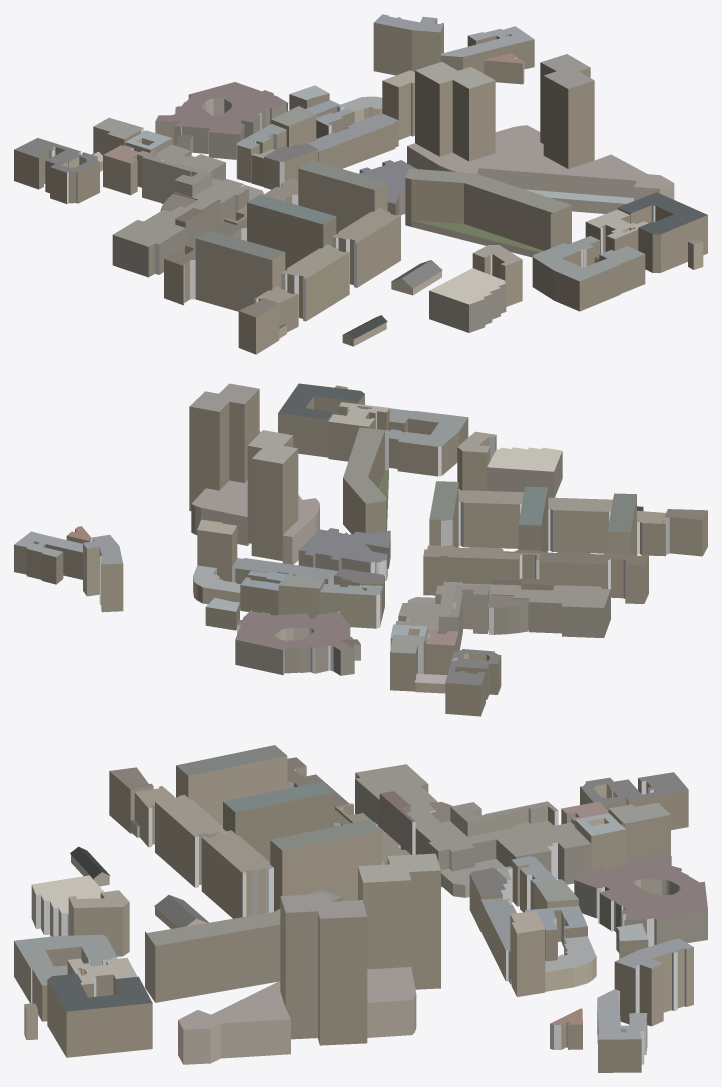
3 views of the same model, one above another, from view 1: azimuth 30°, elevation 25°; view 2: azimuth 150°, elevation 25°; view 3: azimuth 270°, elevation 25° (orthographic). The views are drawn at different scales.
Parts seen in each view (by area): view 1: tuile; view 2: tuile; view 3: tuile.
Boxes of the visible parts, x1,y1,x2,y2 form: tuile: (14, 14, 707, 354); tuile: (14, 383, 707, 716); tuile: (14, 745, 707, 1072).
Size of the model in its own units: 270 by 61.41 by 271.
